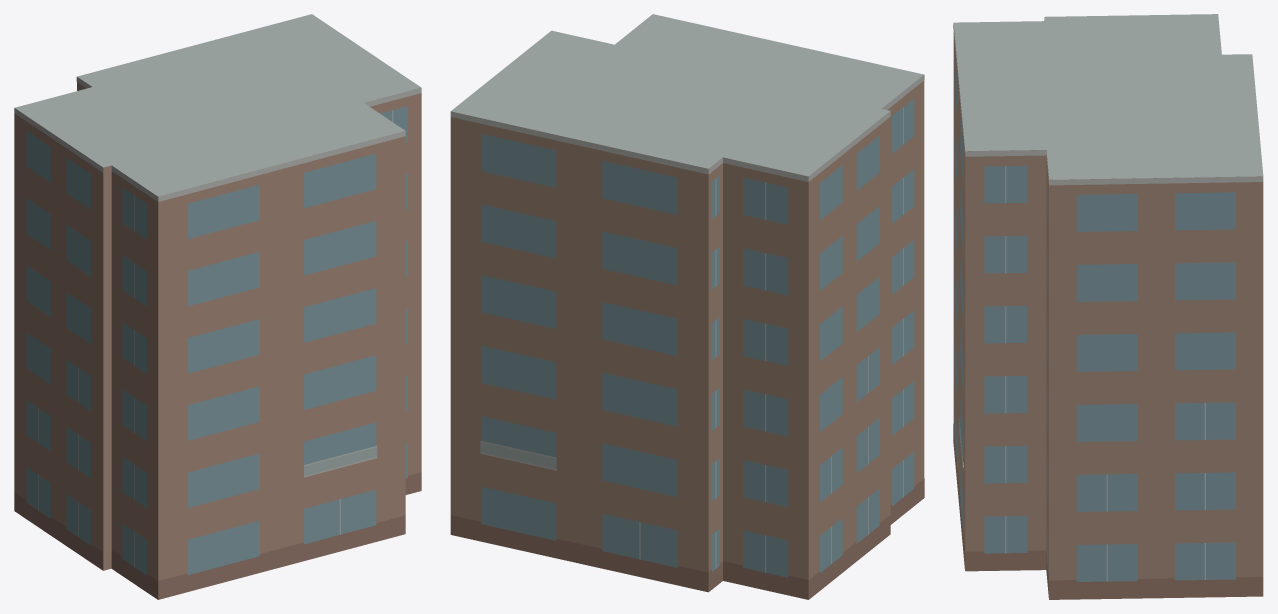
Rendered from survey-upis-32641928.glb.
3 renders of one model, left to right at view 1: azimuth 30°, elevation 25°; view 2: azimuth 150°, elevation 25°; view 3: azimuth 270°, elevation 25°, orthographic. The views are drawn at different scales.
Parts seen in each view (by area): view 1: survey-upis-32641928.tmp; view 2: survey-upis-32641928.tmp; view 3: survey-upis-32641928.tmp.
Part boxes in pixels (bbox=[...]): survey-upis-32641928.tmp: bbox=[14, 14, 421, 599]; survey-upis-32641928.tmp: bbox=[450, 14, 924, 599]; survey-upis-32641928.tmp: bbox=[953, 14, 1263, 599].
Bounding box in the file's own units: 15.5 × 18.3 × 12.24.
